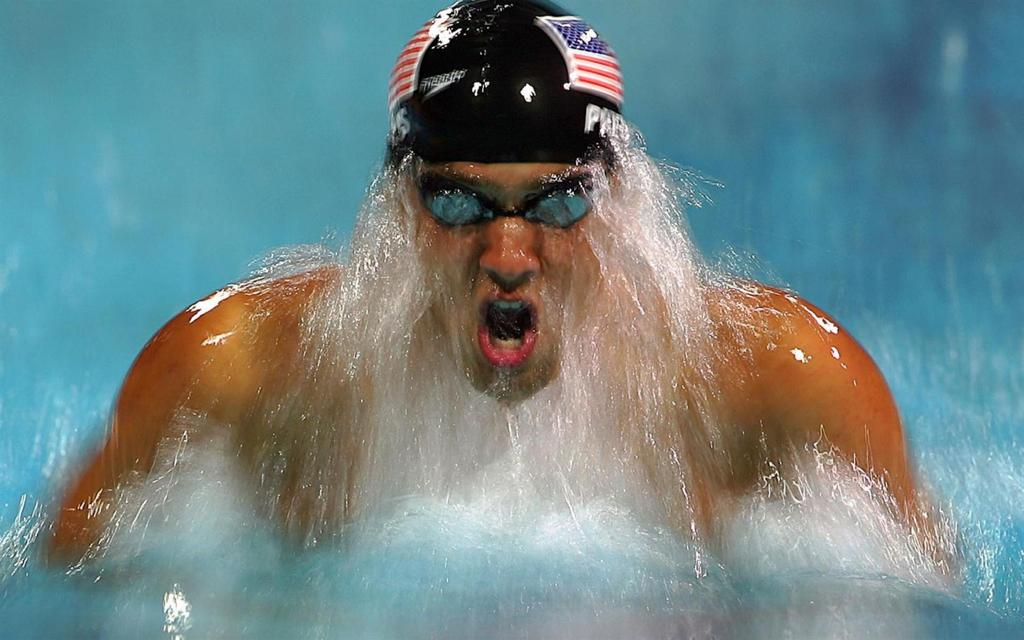face: (414, 122, 604, 404)
